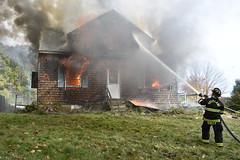fire: (60, 54, 82, 85), (146, 73, 161, 89)
